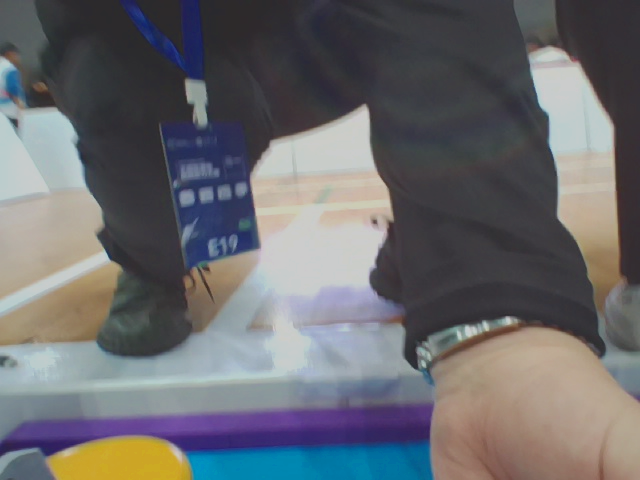kuang: (4, 412, 640, 480)
yellow: (31, 436, 206, 480)
